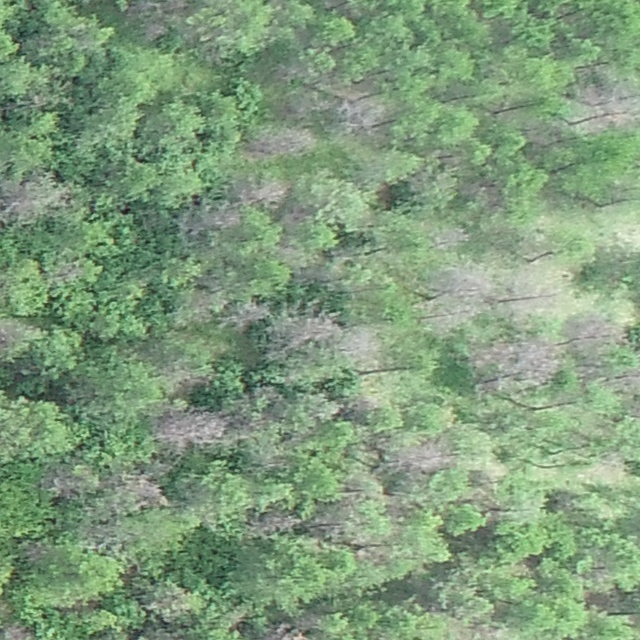unhealthy: (427, 264, 493, 332), (0, 170, 69, 220), (574, 81, 637, 135), (500, 264, 565, 310), (156, 409, 227, 450), (276, 312, 340, 351), (247, 124, 317, 159), (515, 336, 563, 384), (112, 472, 167, 511), (394, 438, 453, 474), (338, 96, 390, 132), (571, 314, 624, 345), (185, 204, 243, 232), (340, 324, 380, 363), (160, 363, 208, 395), (43, 465, 88, 498), (241, 178, 291, 206), (229, 299, 271, 329), (587, 452, 627, 483), (253, 511, 301, 536), (260, 621, 311, 639), (431, 226, 469, 250), (3, 623, 35, 640), (143, 19, 168, 40)
